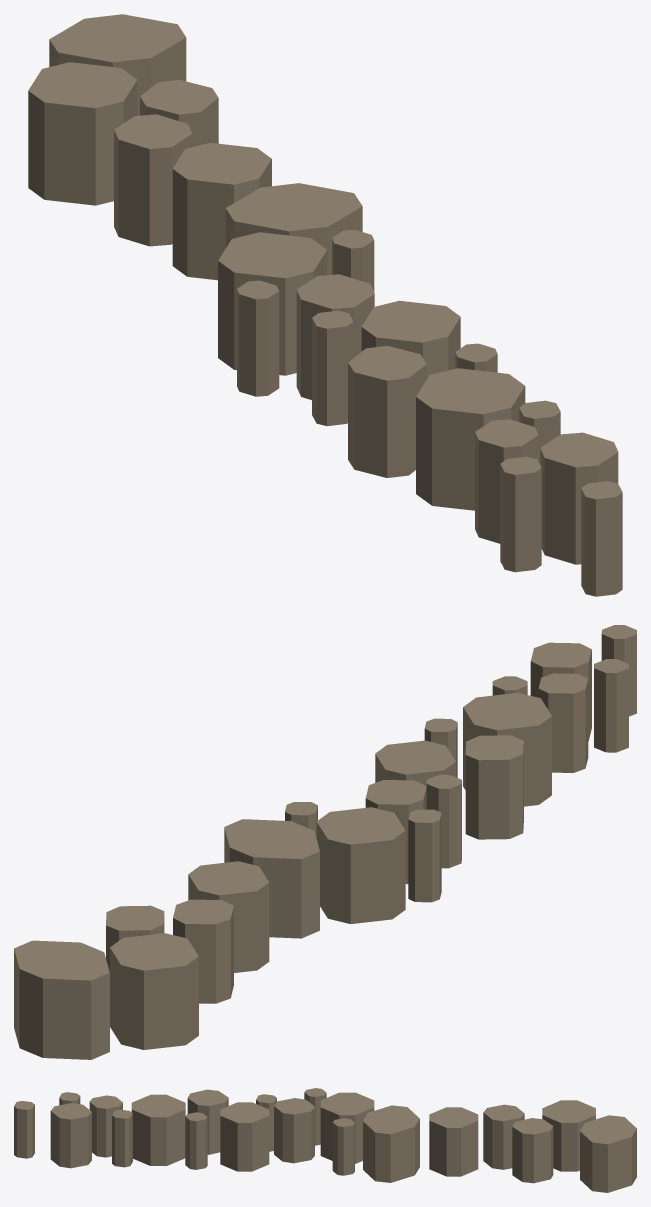
File: home_cobblepath.fbx
The picture shows the model from 3 angles, top to bottom: view 1: azimuth 30°, elevation 25°; view 2: azimuth 150°, elevation 25°; view 3: azimuth 270°, elevation 25°; orthographic projection. The views are drawn at different scales.
Visible parts, largest first — view 1: home_cobblepath; view 2: home_cobblepath; view 3: home_cobblepath.
Part boxes in pixels (bbox=[...]): home_cobblepath: bbox=[28, 14, 622, 596]; home_cobblepath: bbox=[14, 625, 636, 1059]; home_cobblepath: bbox=[14, 1088, 636, 1192].
Bounding box in the file's own units: 2.48 × 1 × 11.59.
